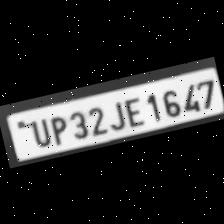1: (140, 90, 164, 122)
2: (82, 102, 108, 136)
3: (64, 106, 90, 140)
4: (176, 79, 202, 114)
6: (156, 84, 182, 119)
7: (193, 76, 219, 111)
E: (120, 92, 146, 128)
J: (103, 96, 127, 131)
P: (43, 110, 70, 146)
U: (23, 114, 52, 148)
